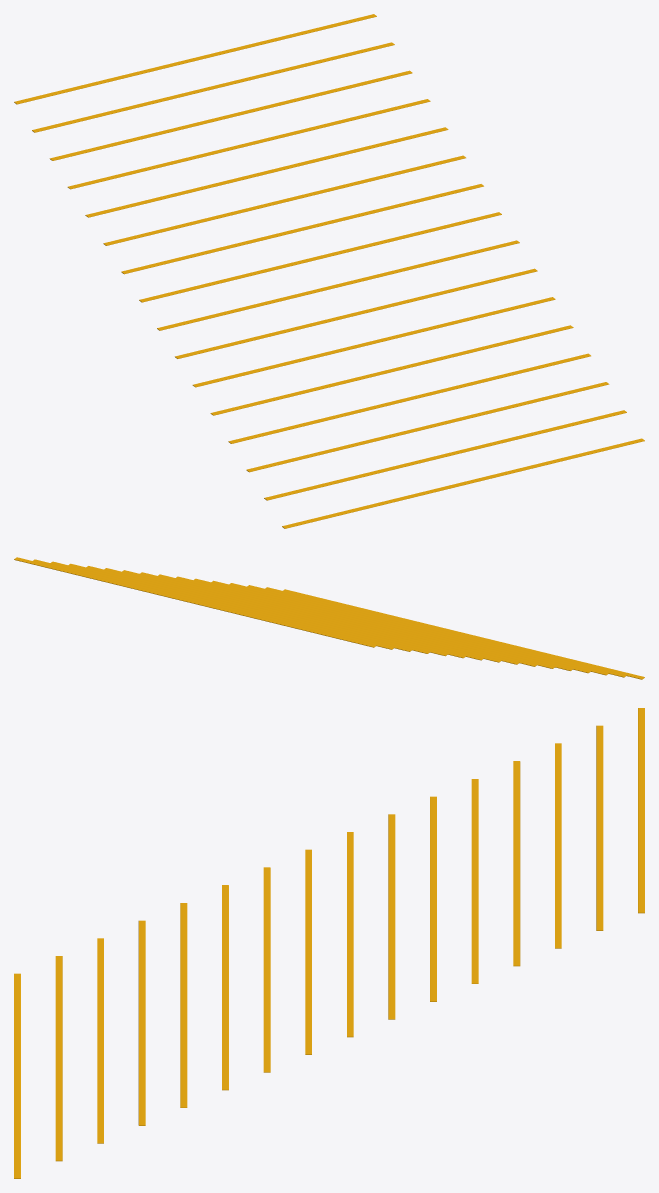
The model's file is gteki_ik_stair_n16_r1555_t331_w3868_nosing.glb.
The picture shows the model from 3 angles, top to bottom: view 1: azimuth 30°, elevation 25°; view 2: azimuth 150°, elevation 25°; view 3: azimuth 270°, elevation 25°; orthographic projection. The views are drawn at different scales.
Parts seen in each view (by area): view 1: VIS_nosings; view 2: VIS_nosings; view 3: VIS_nosings.
Boxes of the visible parts, x1,y1,x2,y2 form: VIS_nosings: (14,14,644,528); VIS_nosings: (14,557,644,679); VIS_nosings: (14,708,644,1178).
Size of the model in its own units: 3.85 by 2.34 by 5.02.
